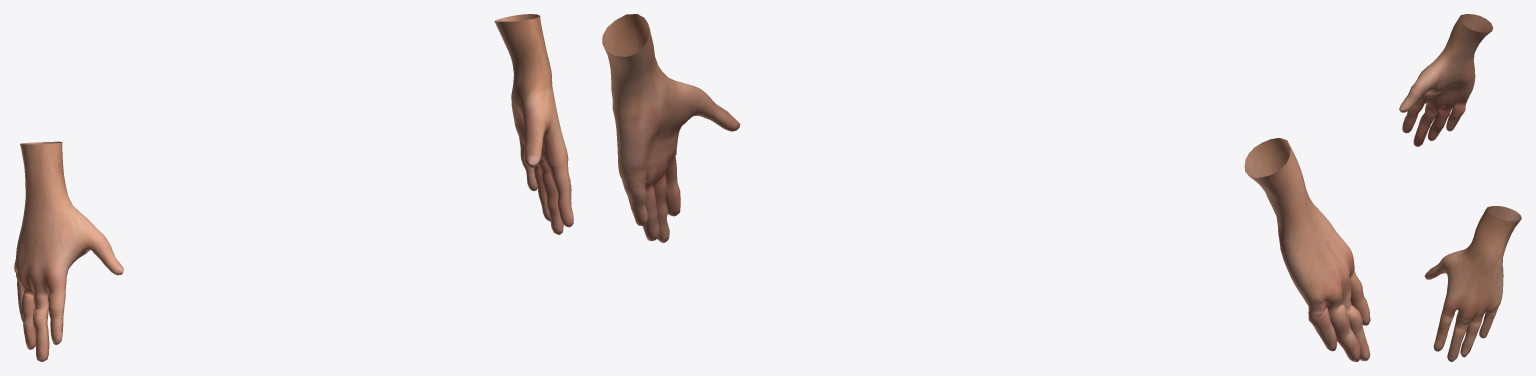
The model's file is hands.glb.
3 renders of one model, left to right at view 1: azimuth 30°, elevation 25°; view 2: azimuth 150°, elevation 25°; view 3: azimuth 270°, elevation 25°, orthographic. The views are drawn at different scales.
Visible parts, largest first — view 1: hand.002_1, hand.001_0; view 2: hand.001_0, hand.002_1; view 3: hand.001_0, hand.002_1.
Boxes of the visible parts, x1,y1,x2,y2 form: hand.002_1: [14, 141, 123, 361]; hand.001_0: [494, 14, 573, 234]; hand.001_0: [602, 14, 740, 242]; hand.002_1: [1244, 138, 1370, 361]; hand.001_0: [1424, 206, 1521, 361]; hand.002_1: [1399, 14, 1493, 146].
Bounding box in the file's own units: 0.612 × 0.2199 × 0.1538.
Materials: 1 (1 with a texture image).
